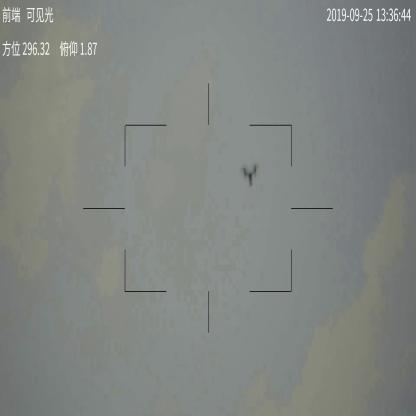uav: (242, 163, 260, 188)
